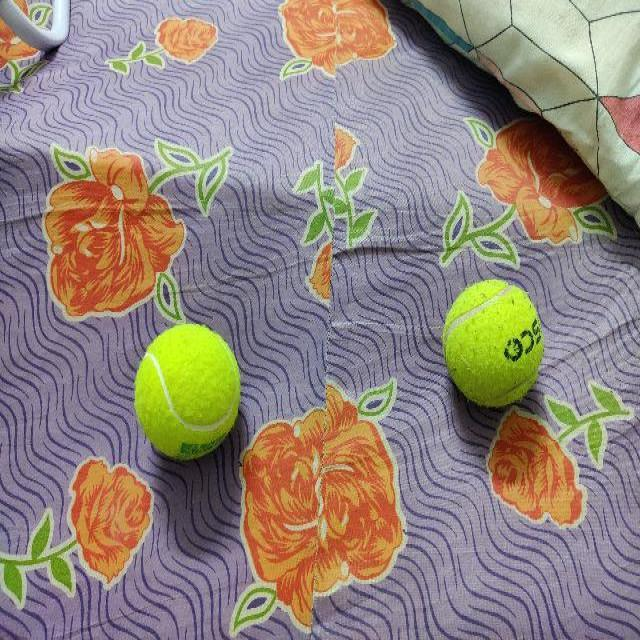tennis-ball: (134, 322, 241, 460), (443, 279, 544, 407)
